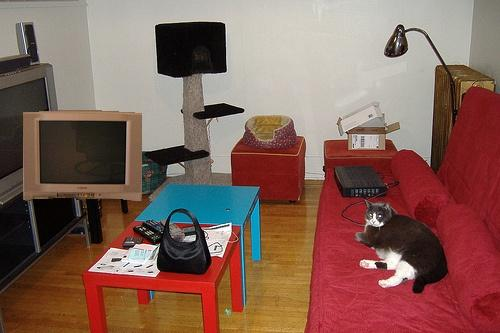tampered: (24, 111, 142, 201)
